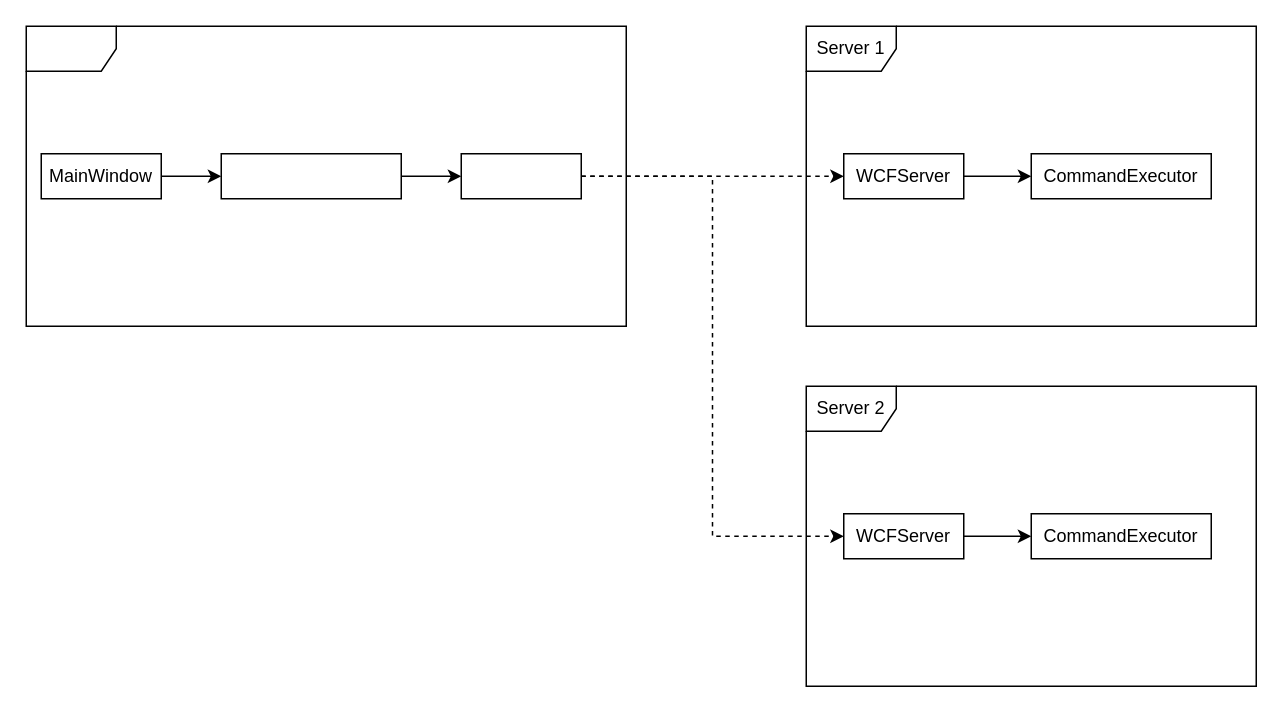
Image size: 1283x713. Some labels were removed from this diagram. The shapes that lost their labels are listed below. From the top down, each one's box as (x1, y1, x2, y2) in pixels, then its label:
(220, 152, 401, 199): ConnectionManager
(25, 25, 626, 326): Client
(460, 152, 581, 199): Server
